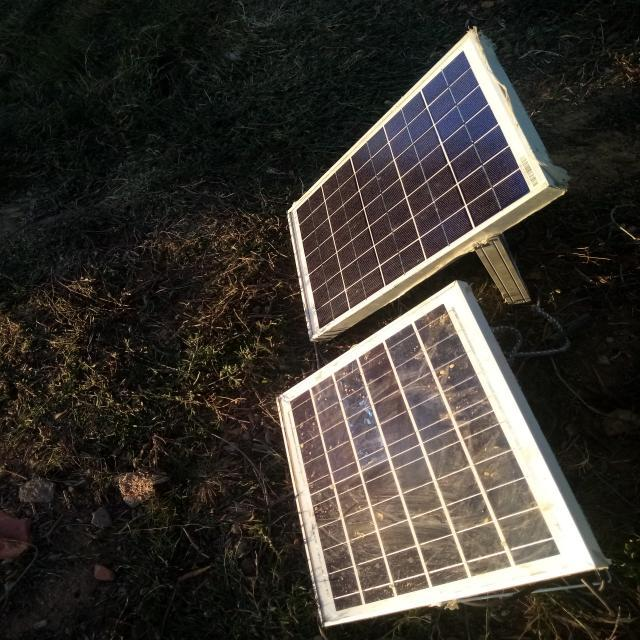faulty: (276, 282, 596, 626)
no faulty: (288, 31, 550, 339)
